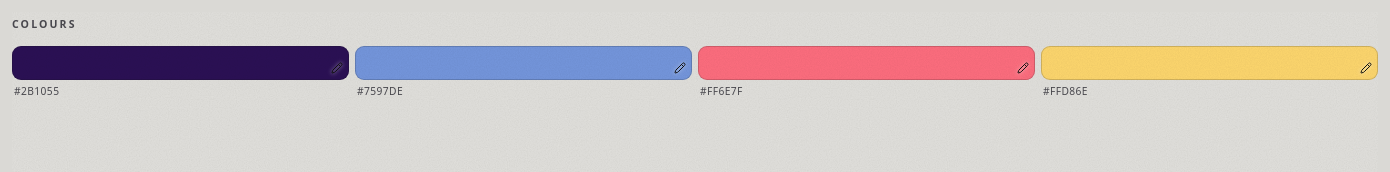
Test case: ColorEditor › after an edit, offers a way back to the palette it started from
Expected: the button "back to" is not shown
Type "#00ff88" into the colour field named "Colour 2".
click(680, 68); type("#00ff88")  # box [355, 46, 692, 80]
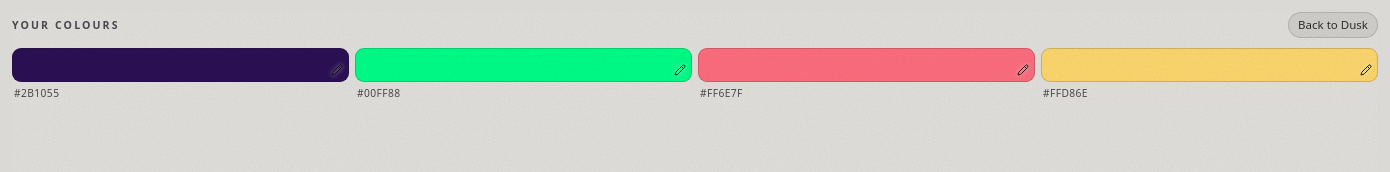
Click the button "Back to Dusk".
click(1333, 25)  # box [1288, 12, 1378, 38]
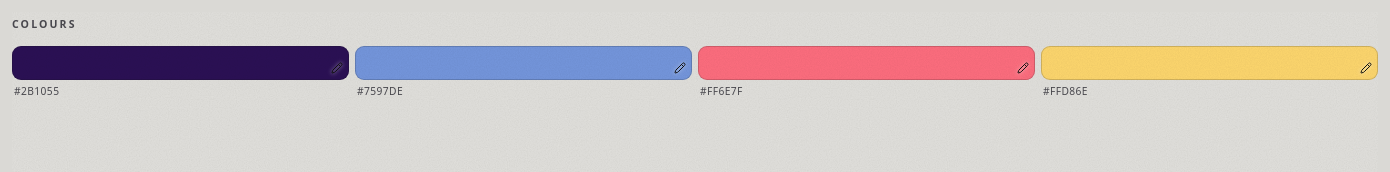
Expected: the button "Back to" is gone
